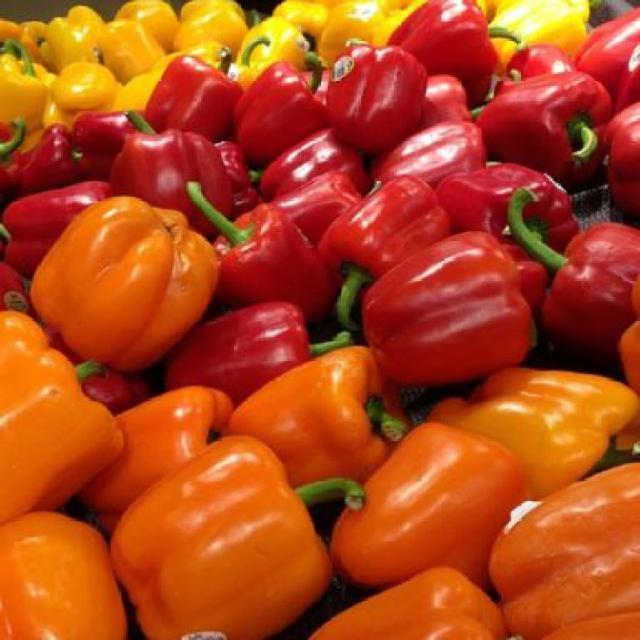Bell pepper: (0, 0, 638, 638), (42, 192, 226, 372)
